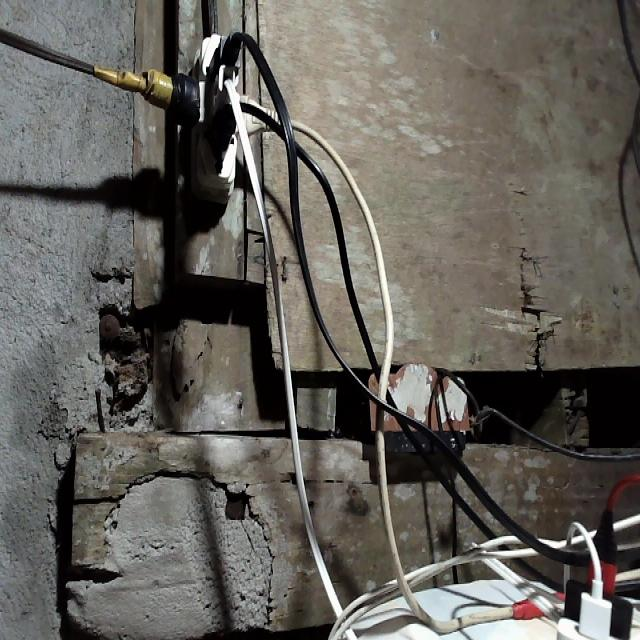-: (141, 29, 265, 203)
